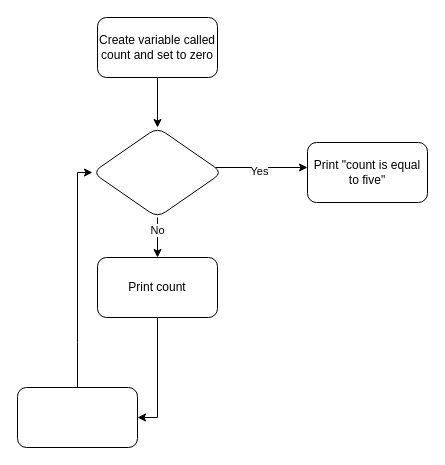
Image size: 445x465. Some labels were removed from this diagram. Here are the shapes that lost their labels. From the top down, the centre of each, then its label:
(157,172): Is count equal five?
(77,417): Increment count
